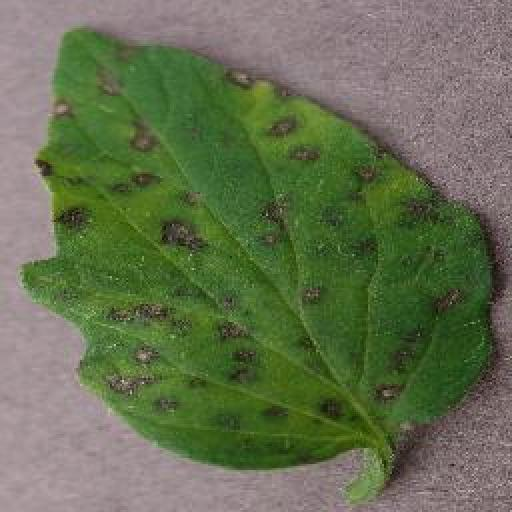disease_tomato: (28, 29, 498, 471)
